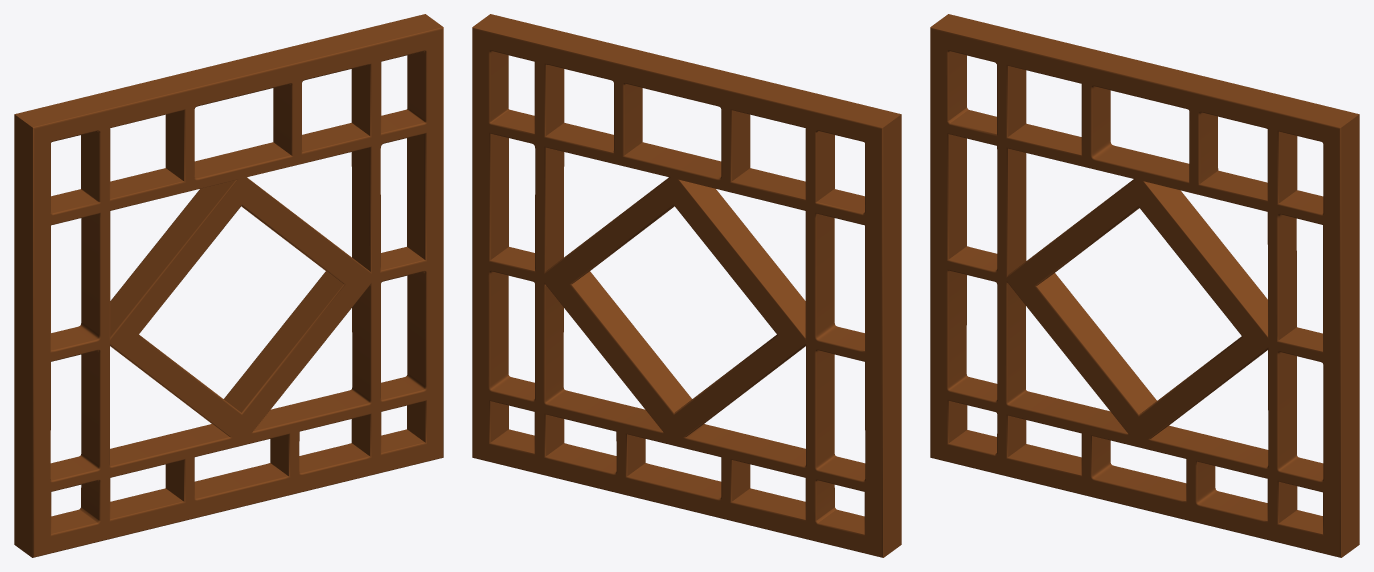
Rendered from window.fbx.
The picture shows the model from 3 angles, left to right: view 1: azimuth 30°, elevation 25°; view 2: azimuth 150°, elevation 25°; view 3: azimuth 330°, elevation 25°; orthographic projection.
Visible parts, largest first — view 1: window_8; view 2: window_8; view 3: window_8.
Part boxes in pixels (box(x1,y1,x2,y2)): window_8: box(14, 14, 443, 557); window_8: box(472, 14, 901, 557); window_8: box(930, 14, 1359, 557).
Size of the model in its own units: 404 by 405 by 32.78.
